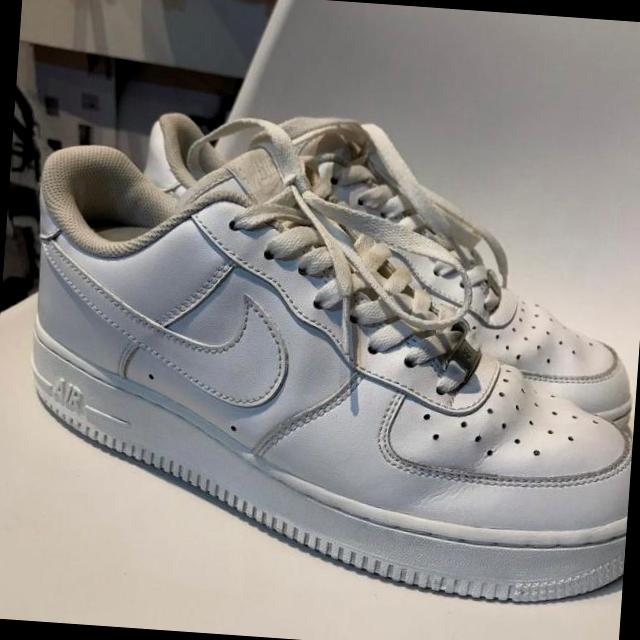nike_fake_jordan: (11, 139, 640, 611), (130, 109, 640, 437)
